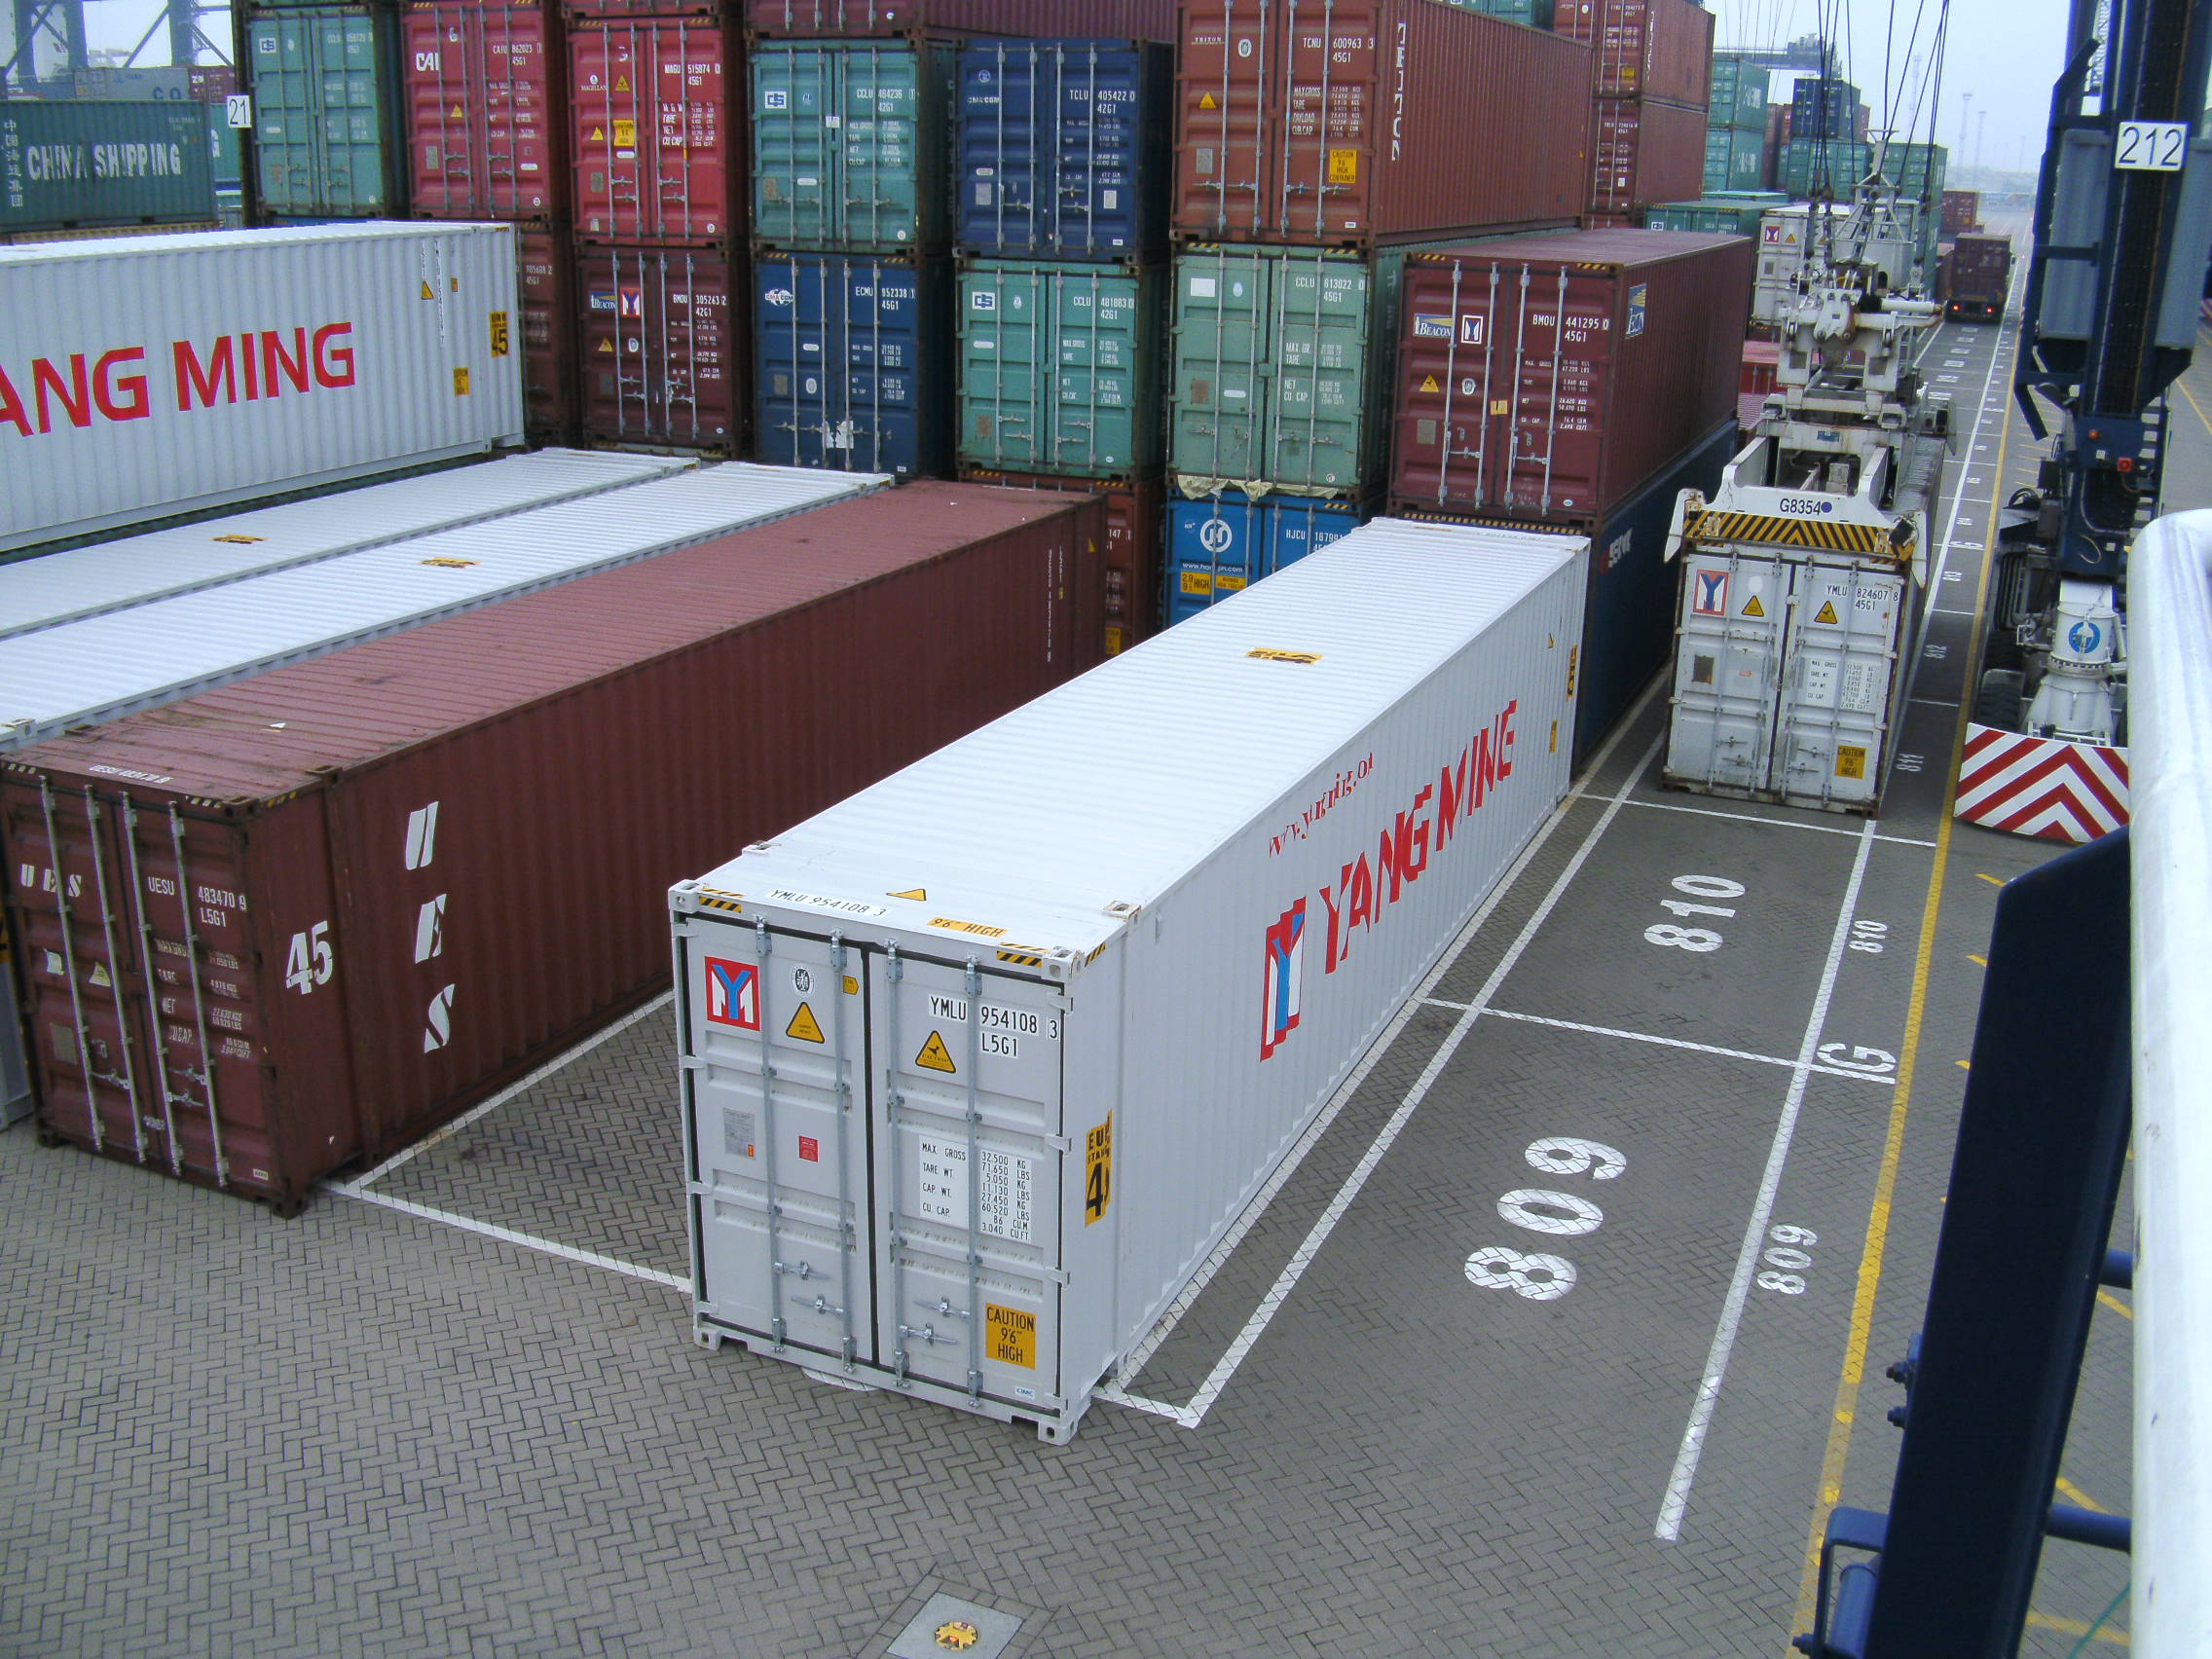container_door: (662, 878, 1094, 1446), (2, 751, 296, 1204), (1677, 545, 1881, 791), (1170, 2, 1374, 246), (1392, 267, 1594, 512), (1174, 244, 1376, 488), (948, 56, 1143, 270), (949, 270, 1144, 484), (242, 3, 390, 206), (573, 28, 721, 230), (566, 244, 714, 446), (747, 260, 895, 462), (395, 5, 543, 206), (756, 52, 904, 253)
